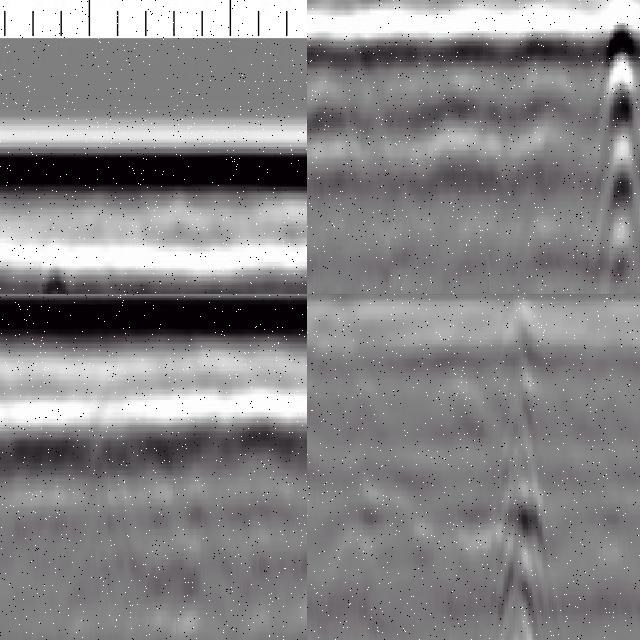crack: (500, 297, 547, 640), (598, 1, 640, 295)
loose: (1, 465, 86, 640)
